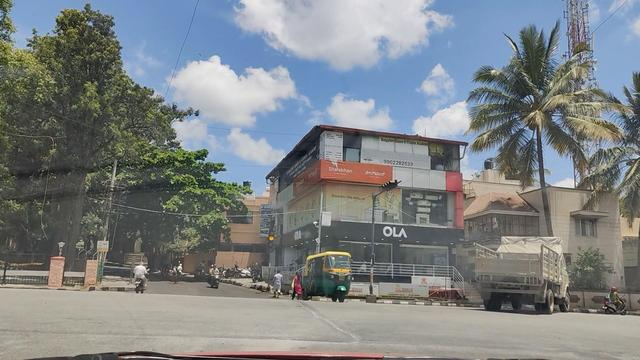HMV: (471, 238, 555, 303)
LMV: (311, 251, 352, 297)
RoadDamages: (302, 303, 361, 345)
